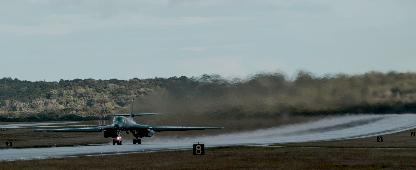AV8B: (33, 97, 225, 145)
